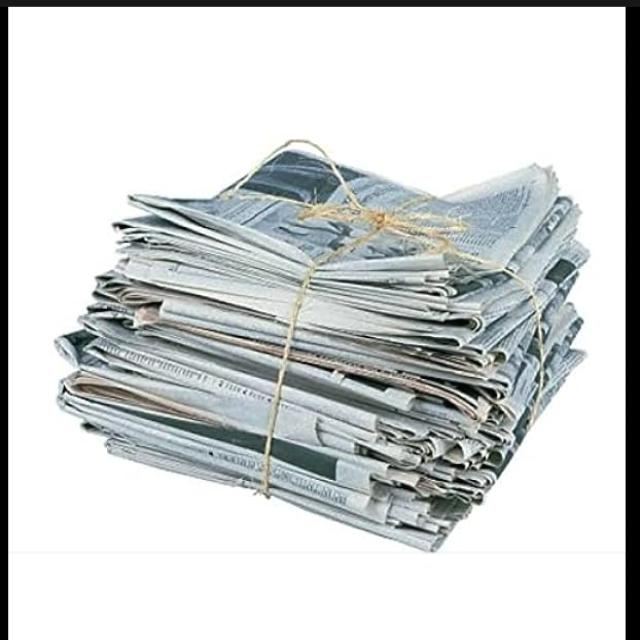Koran: (53, 136, 590, 553)
